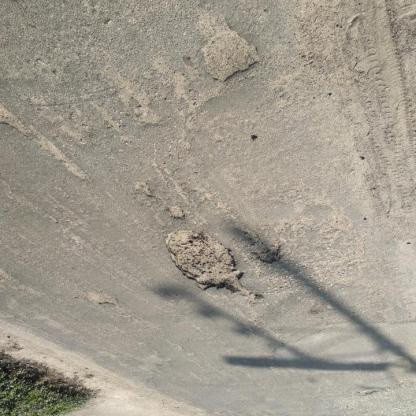pothole: (162, 229, 262, 303), (196, 16, 264, 87), (242, 228, 284, 267), (2, 103, 29, 140), (87, 291, 121, 310)
